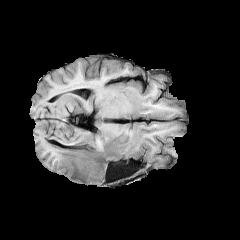glioma: (45, 130, 137, 183)
